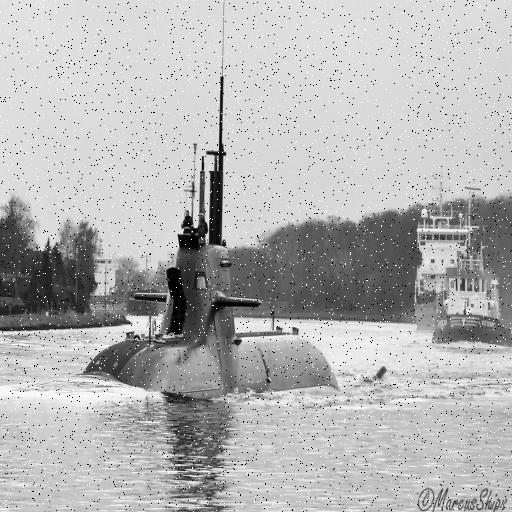submarine: (73, 1, 343, 397)
